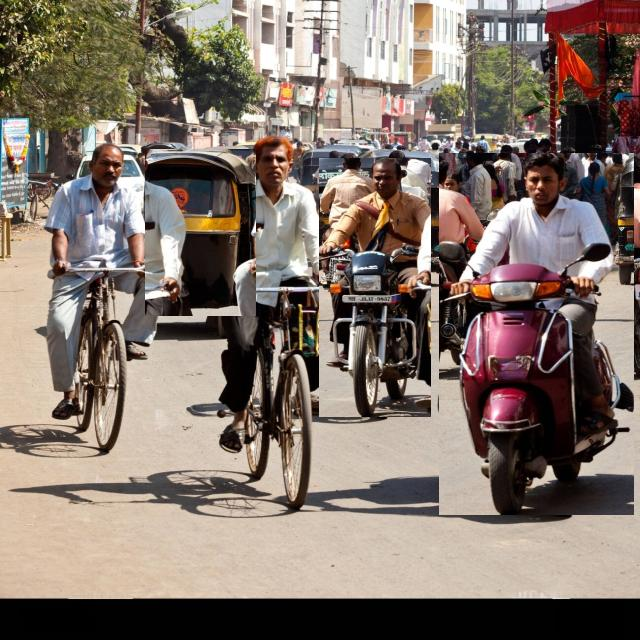autorickshaw: (145, 150, 255, 316), (405, 151, 457, 285)
bicycle: (214, 136, 342, 508), (45, 145, 164, 450)
motorcycle: (439, 153, 633, 515), (319, 159, 430, 417)
